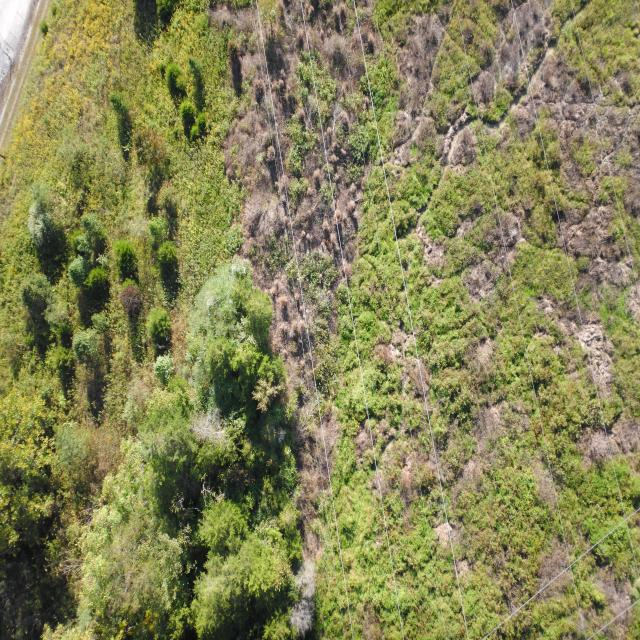Area of Interest: (74, 276, 290, 622)
